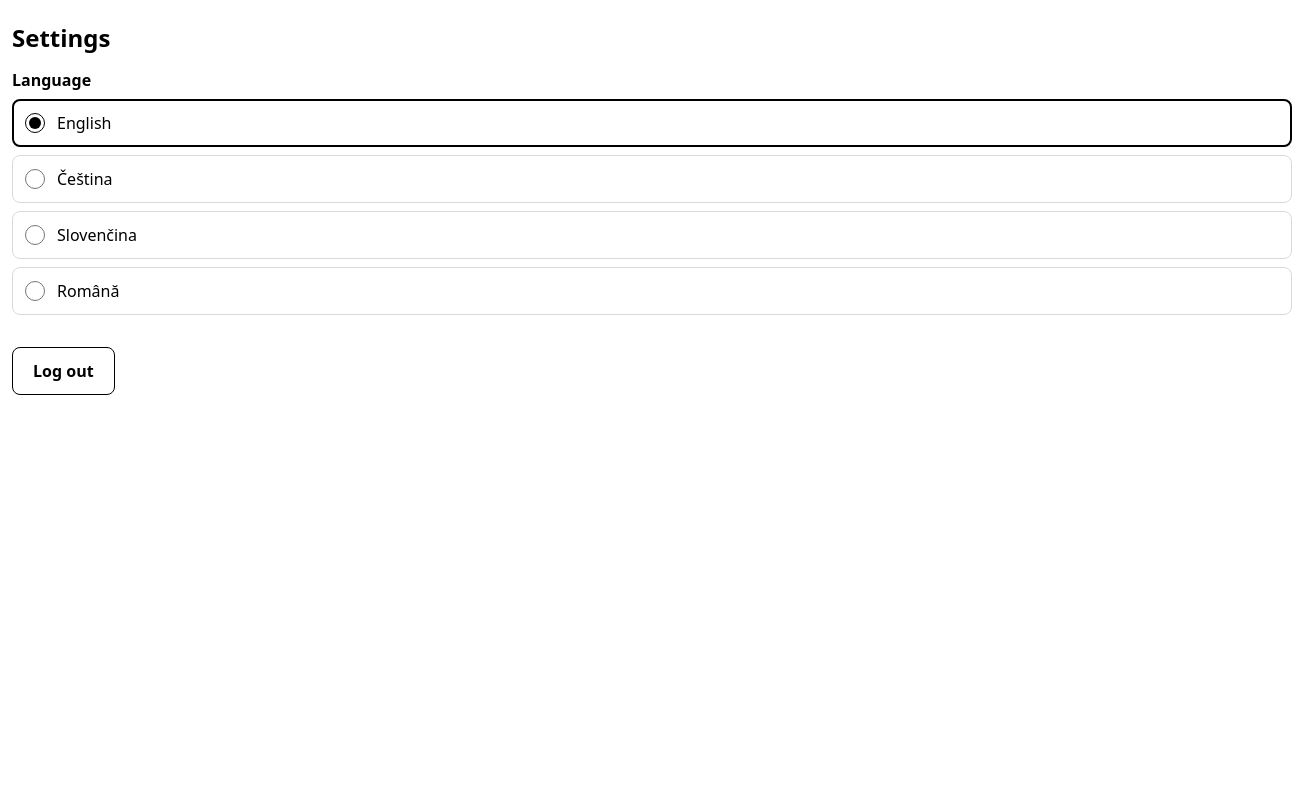
Test case: setLang (through the Settings page) › a failed write shows the generic error as a toast
Click the radio button labelled "Čeština" at point(35, 179), box [25,169,45,189]
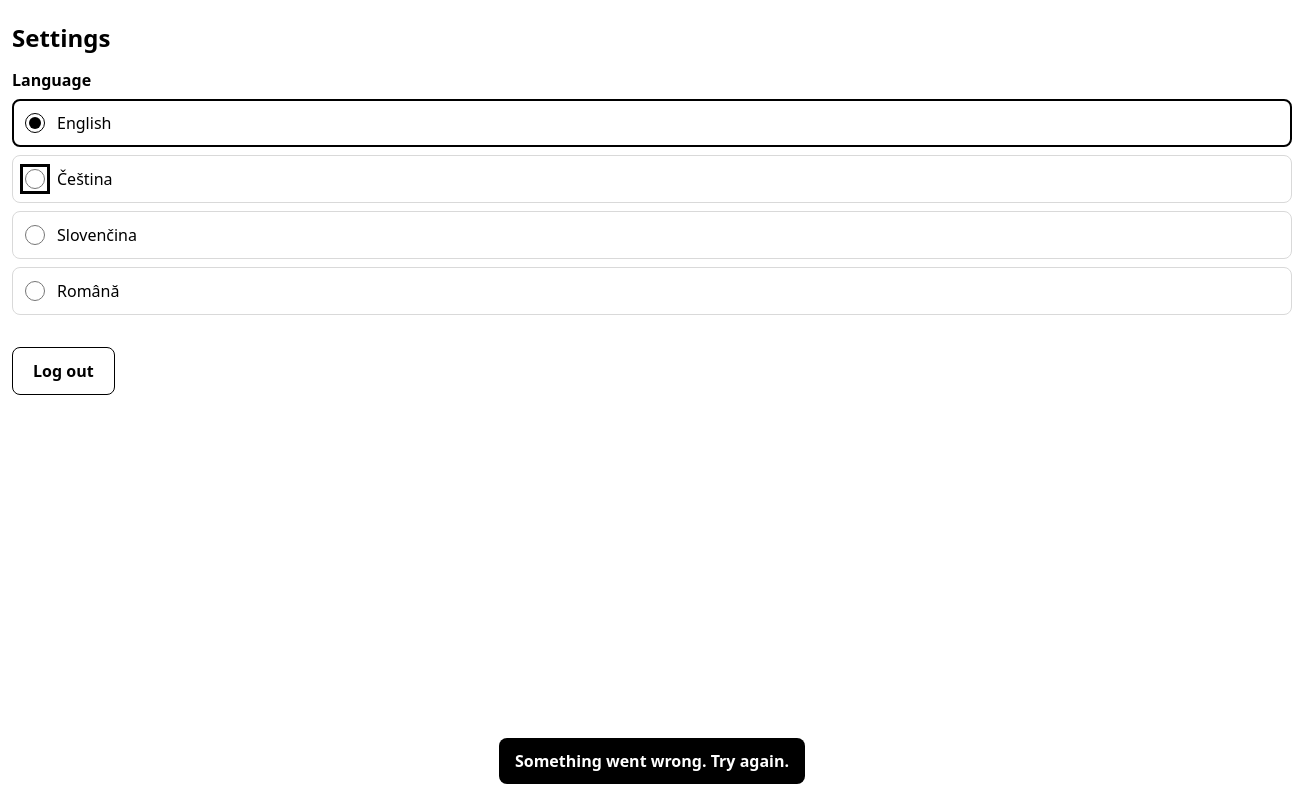
Result: the message reads "Something went wrong. Try again." at [515,750,789,772]
